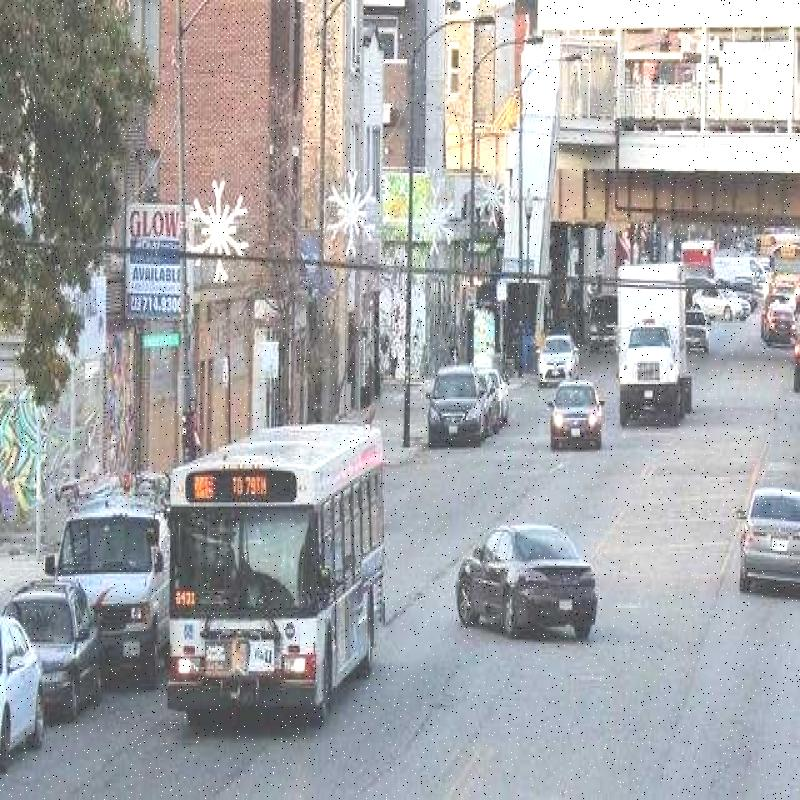bus: (159, 410, 393, 734)
